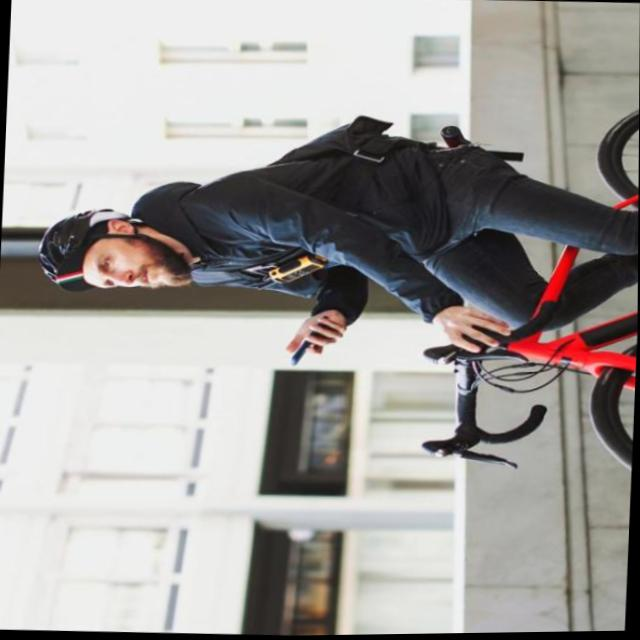USING_MOBILE: (35, 199, 365, 366)
